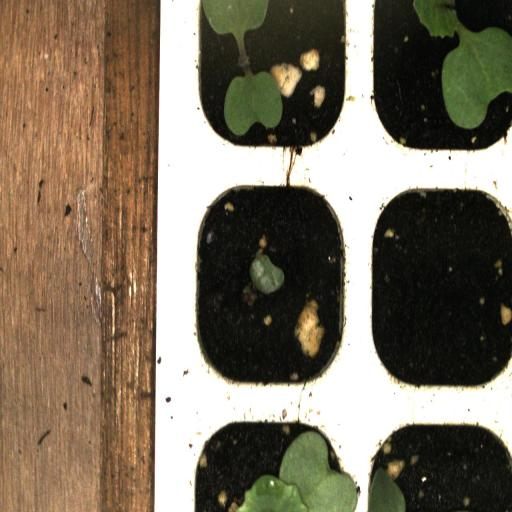Folha: (237, 431, 358, 512), (224, 70, 283, 137), (203, 0, 272, 41)
Germinacao: (177, 169, 360, 398), (176, 1, 360, 171), (360, 0, 512, 172)
